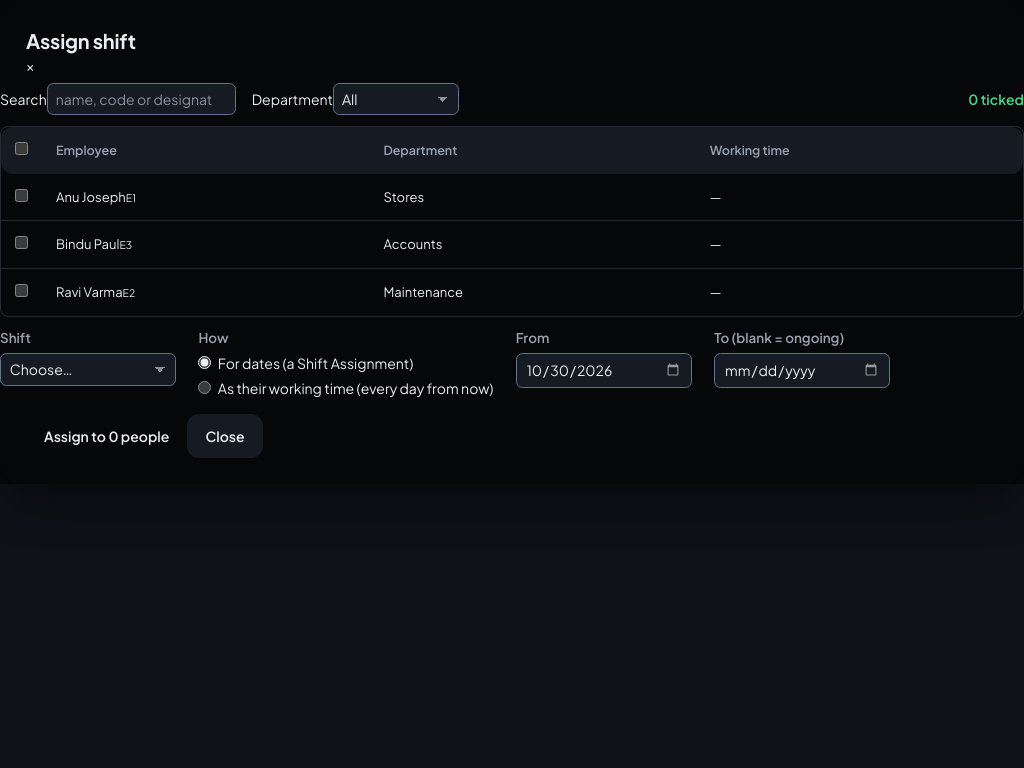
Test: the Assign shift window › says what is missing rather than writing anything
The image size is (1024, 768).
Click the checkbox named "Tick Anu Joseph" at (22, 195), box left=15, top=188, right=28, bottom=202
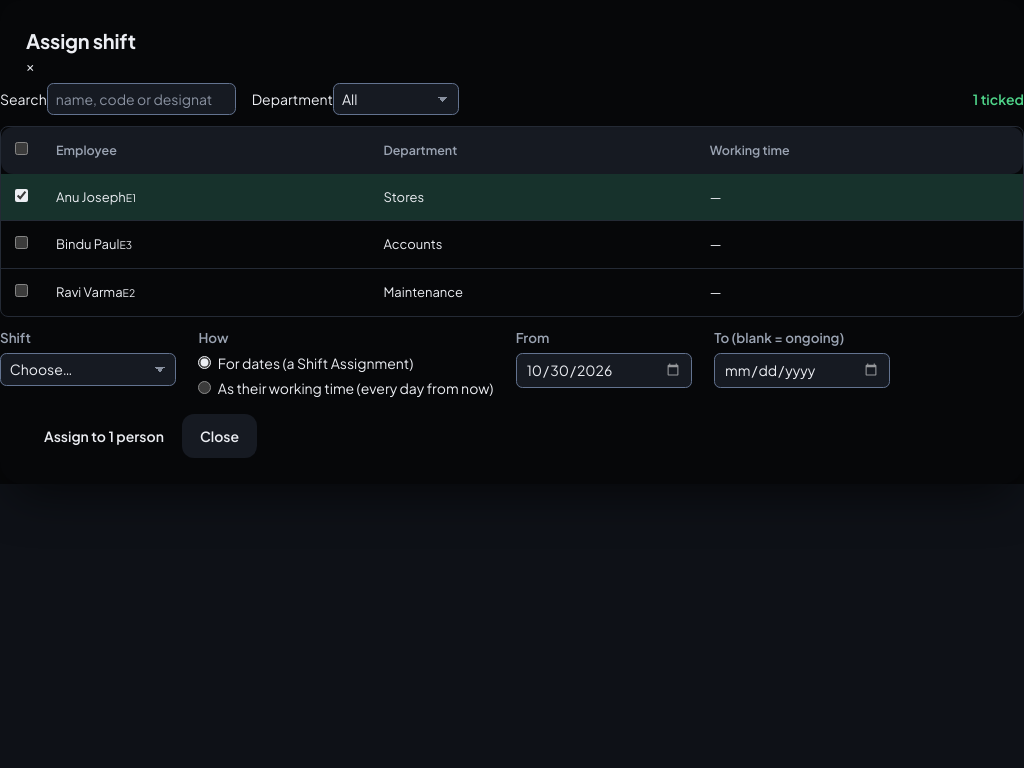
Click the button "Assign to 1 person" at (104, 436), box left=26, top=414, right=182, bottom=458
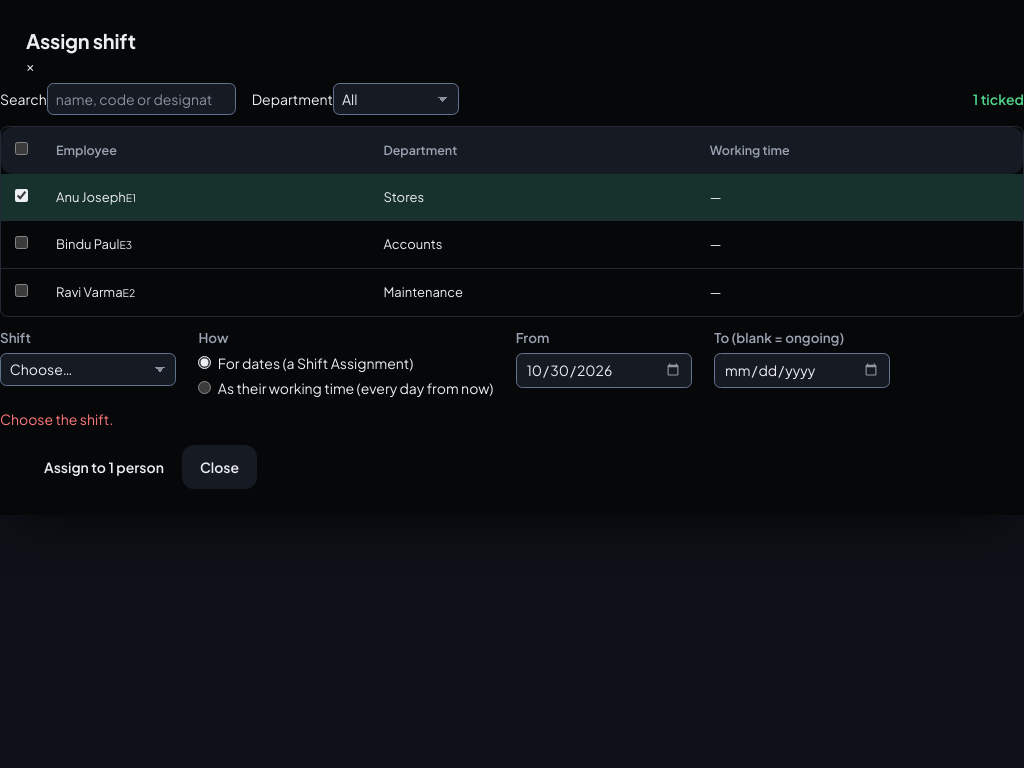
expect the message shows "Choose the shift": met, box left=0, top=410, right=113, bottom=428
